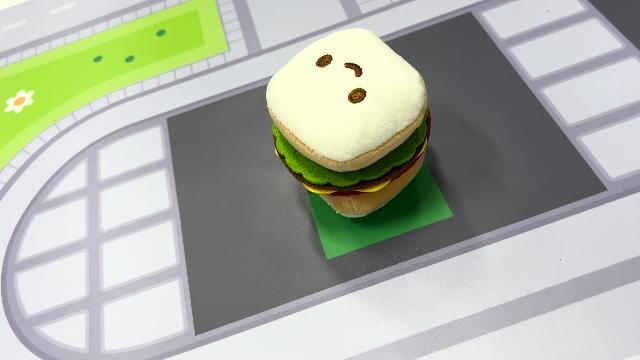sandwich: (264, 25, 434, 219)
